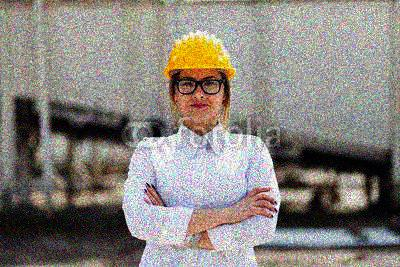helmet: (162, 30, 238, 124)
